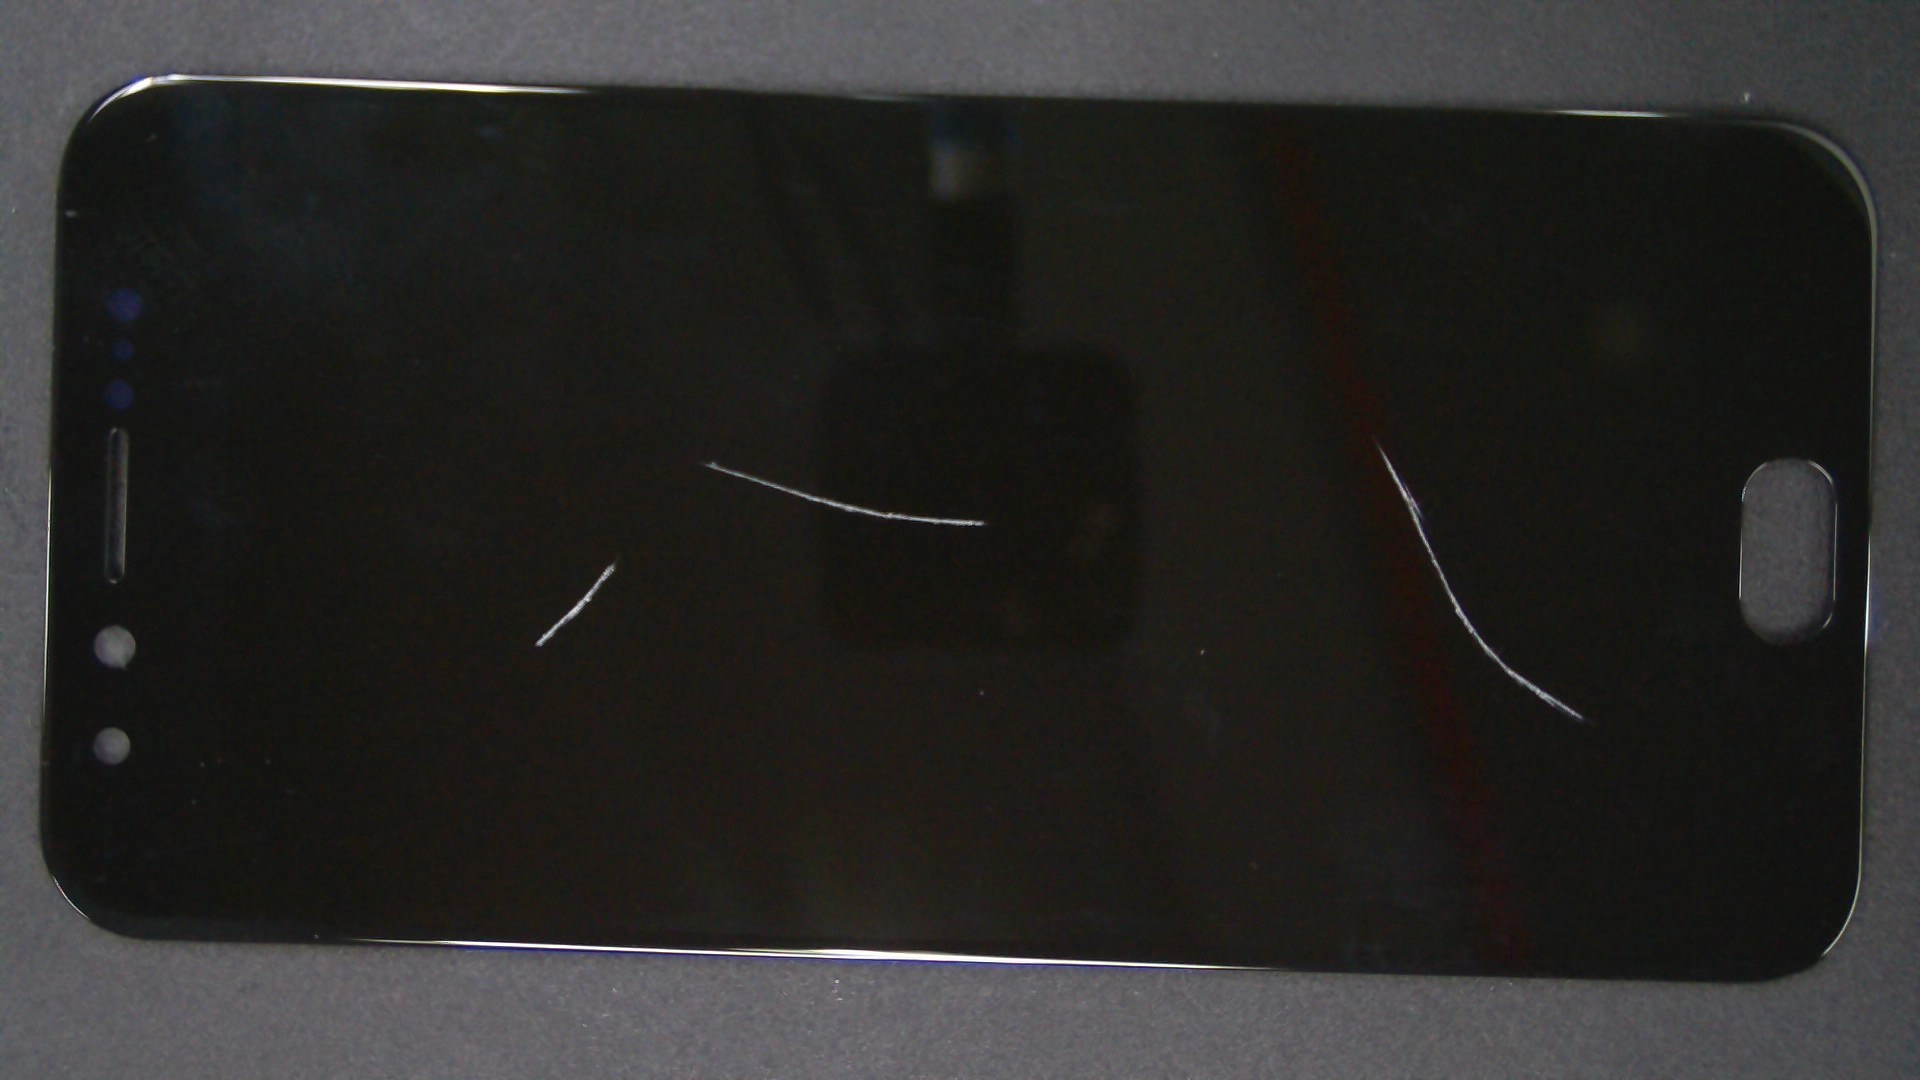oil: (690, 222, 1920, 669), (307, 280, 913, 847), (357, 229, 1069, 692)
